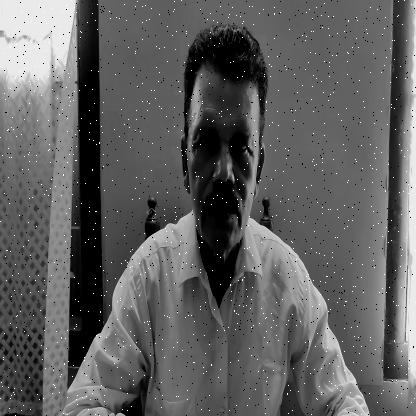Normal: (180, 35, 267, 252)
